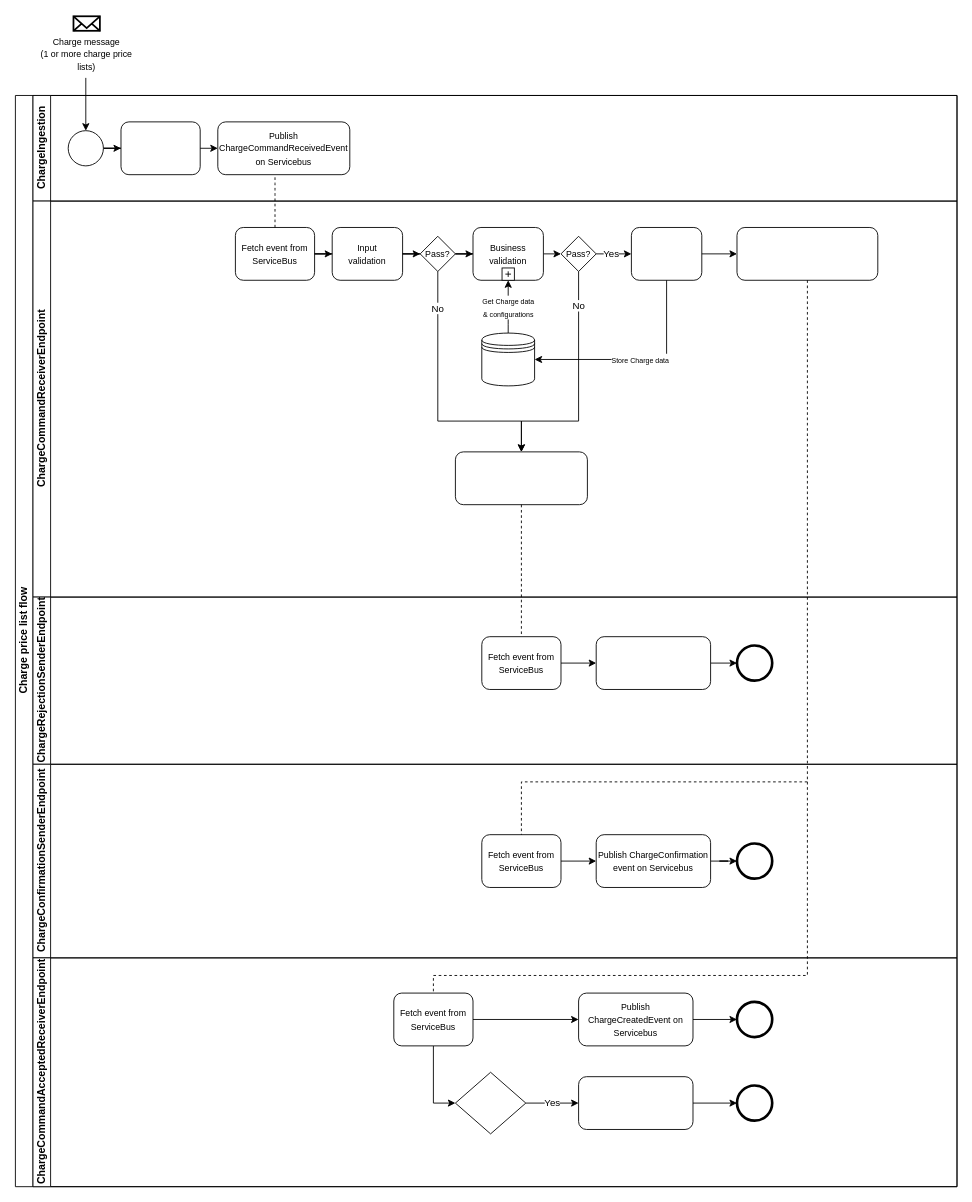
This 972x1202 diagram has some shape labels left out. Each missing label, with the centre of its shape:
"Charge has prices?" belongs at (x=490, y=1102).
"Persist event data" belongs at (x=666, y=253).
"Publish ChargeCommandAcceptedEvent on ServiceBus" belongs at (x=807, y=253).
"Publish ChargeCommandRejectedEvent on ServiceBus" belongs at (x=521, y=478).
"Publish ChargePricesUpdatedEvent on Servicebus" belongs at (x=635, y=1102).
"Publish ChargeRejection event on Servicebus" belongs at (x=653, y=662).
"Split received message into individual charge events" belongs at (x=160, y=148).
"SQL database" belongs at (x=508, y=359).
